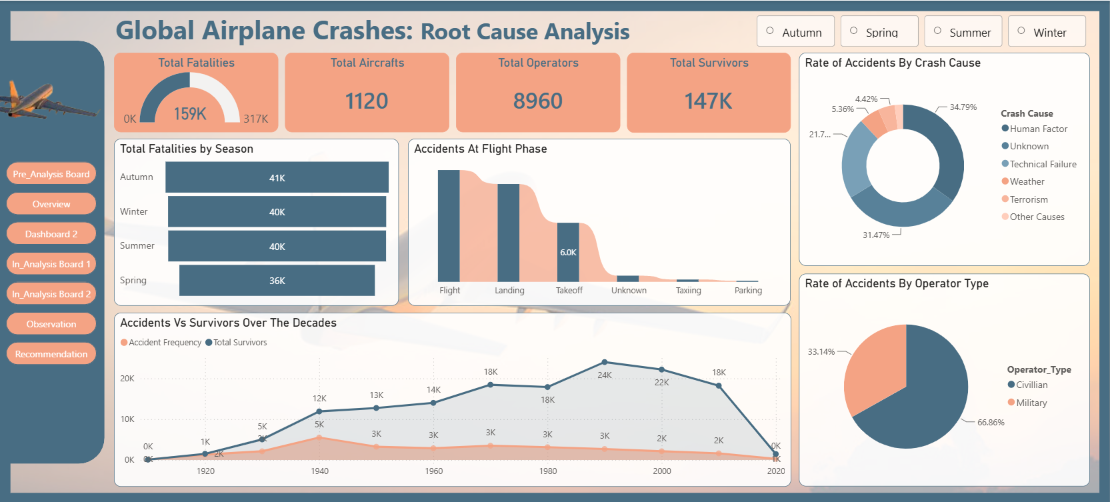

The dashboard page shown, as its layout file describes it:
{"tool":"powerbi","page":{"name":"Dashboard 1","canvas":[1590,720],"ordinal":3},"visuals":[{"type":"image","box":[0,0,1589.8,720],"z":1000},{"type":"shape","box":[0,0,1589.8,720],"z":2000},{"type":"group","id":"g1","title":"Group 1","box":[0,56.9,160.3,606.2],"z":2500},{"type":"advancedSlicerVisual","fields":{"Values":["Dim_date.Season"]},"box":[1079.1,15.7,482.3,55.8],"z":3000},{"type":"shape","box":[0,56.9,149.8,606.2],"z":3000,"group":"g1"},{"type":"funnel","title":"Total Fatalities by Season","fields":{"Category":["Dim_date.Season"],"Y":["Sum(Fact_Table.Total Fatalities)"]},"box":[163.5,198.1,407.8,239.4],"z":4000},{"type":"areaChart","title":"Accidents Vs Survivors Over The Decades","fields":{"Category":["Fact_Table.Decade"],"Y":["CountNonNull(Fact_Table.Accident_Code)","Sum(Fact_Table.Total_survivors)"]},"box":[163.2,446.5,970.3,249],"z":5000},{"type":"pieChart","title":"Rate of Accidents By Operator Type","fields":{"Category":["Dim_Operator.Operator_Type"],"Y":["CountNonNull(Fact_Table.Accident_Code)"]},"box":[1144.9,390.7,416.5,304.8],"z":6000},{"type":"gauge","title":"Total Fatalities","fields":{"Y":["Sum(Fact_Table.Total Fatalities)"]},"box":[162.8,75,235,114.2],"z":7000},{"type":"donutChart","title":"Rate of Accidents By Crash Cause","fields":{"Category":["Dim_CrashCause.Crash Cause"],"Y":["CountNonNull(Dim_FlightDetails.Accident_Code)"]},"box":[1144.9,74.4,416.5,305],"z":8000},{"type":"ribbonChart","title":"Accidents At Flight Phase ","fields":{"Category":["Dim_FlightDetails.Flight Phase "],"Y":["CountNonNull(Dim_FlightDetails.Accident_Code)"]},"box":[584.5,198.1,548.2,239.4],"z":9000},{"type":"cardVisual","title":"Total Survivors","fields":{"Data":["Sum(Fact_Table.Total_survivors)"]},"box":[898.8,74.4,234.7,114.5],"z":10000},{"type":"cardVisual","title":"Total Operators","fields":{"Data":["Count(Fact_Table.Operator_ID)"]},"box":[653.4,75,235,114.2],"z":11000},{"type":"cardVisual","title":"Total Aircrafts","fields":{"Data":["Count(Dim_Aircraft.Aircraft)"]},"box":[408.1,75,235,114.2],"z":12000},{"type":"textbox","box":[159.8,10.1,764.6,77.8],"z":13000},{"type":"pageNavigator","box":[8.6,230.4,130.2,296.2],"z":14000},{"type":"image","box":[0,93,160.3,95.9],"z":15000,"group":"g1"}]}

Visuals, with their boxes in screenshot pixels (x1, y1, x2, y2), scaled from the page's 1590x720 canvas onto the 1110x502 screenshot:
image: <box>0,0,1109,501</box>
shape: <box>0,0,1109,501</box>
"Group 1" group: <box>0,40,112,462</box>
advancedSlicerVisual - Dim_date.Season: <box>753,11,1090,50</box>
shape: <box>0,40,105,462</box>
"Total Fatalities by Season" funnel: <box>114,138,399,305</box>
"Accidents Vs Survivors Over The Decades" areaChart: <box>114,311,791,485</box>
"Rate of Accidents By Operator Type" pieChart: <box>799,272,1090,485</box>
"Total Fatalities" gauge: <box>114,52,278,132</box>
"Rate of Accidents By Crash Cause" donutChart: <box>799,52,1090,265</box>
"Accidents At Flight Phase " ribbonChart: <box>408,138,791,305</box>
"Total Survivors" cardVisual: <box>627,52,791,132</box>
"Total Operators" cardVisual: <box>456,52,620,132</box>
"Total Aircrafts" cardVisual: <box>285,52,449,132</box>
textbox: <box>112,7,645,61</box>
pageNavigator: <box>6,161,97,367</box>
image: <box>0,65,112,132</box>
